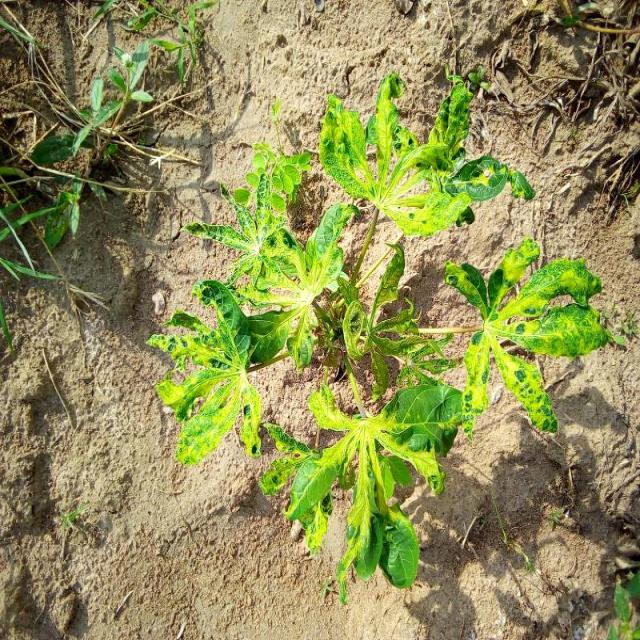cassava leaf: (146, 68, 620, 600)
